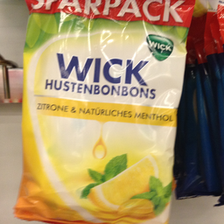candy: (23, 2, 185, 224)
